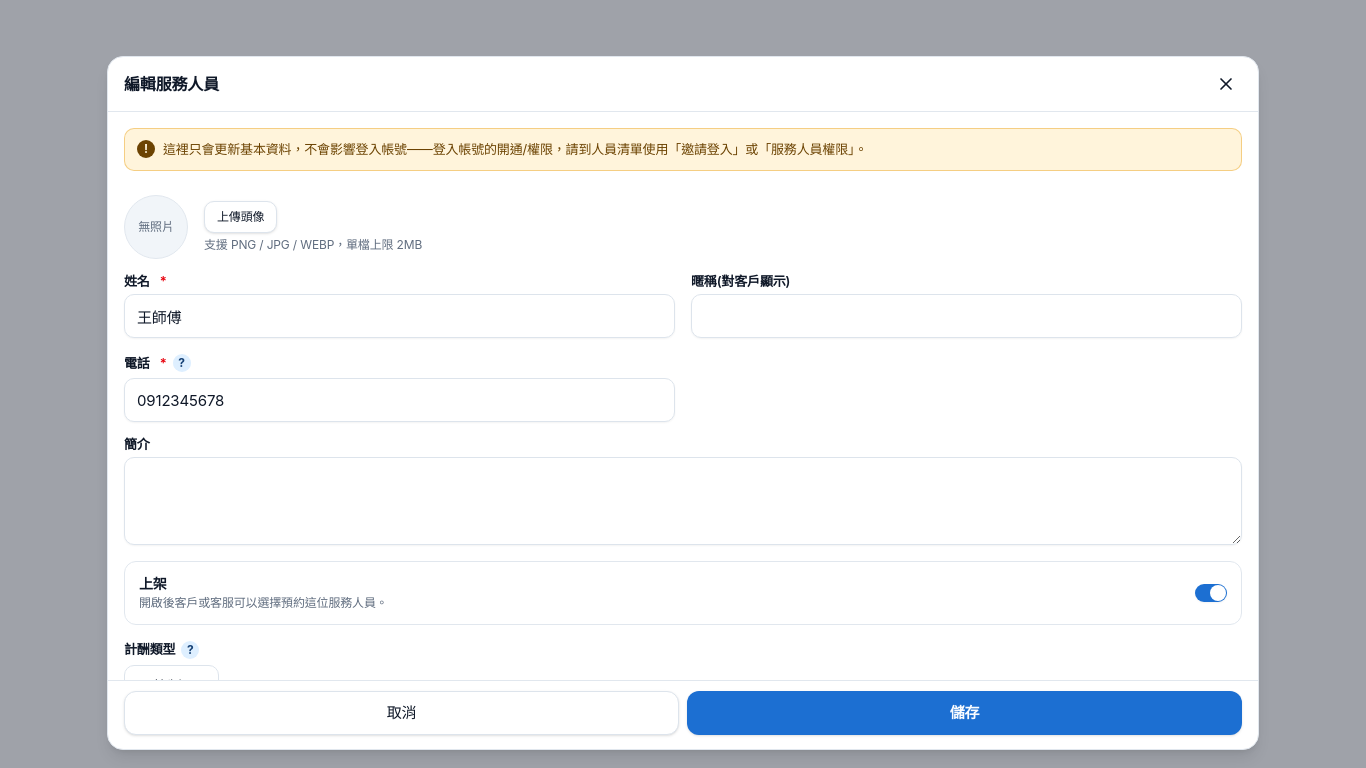
第 11 批 J:編輯服務人員 × 填過資料才問放棄 › 改姓名一個字 ⇒ Esc 先問「確定放棄這次輸入？」、不關
Type "A" into the field labelled "姓名 *" at (400, 316), box [124,294,675,338]
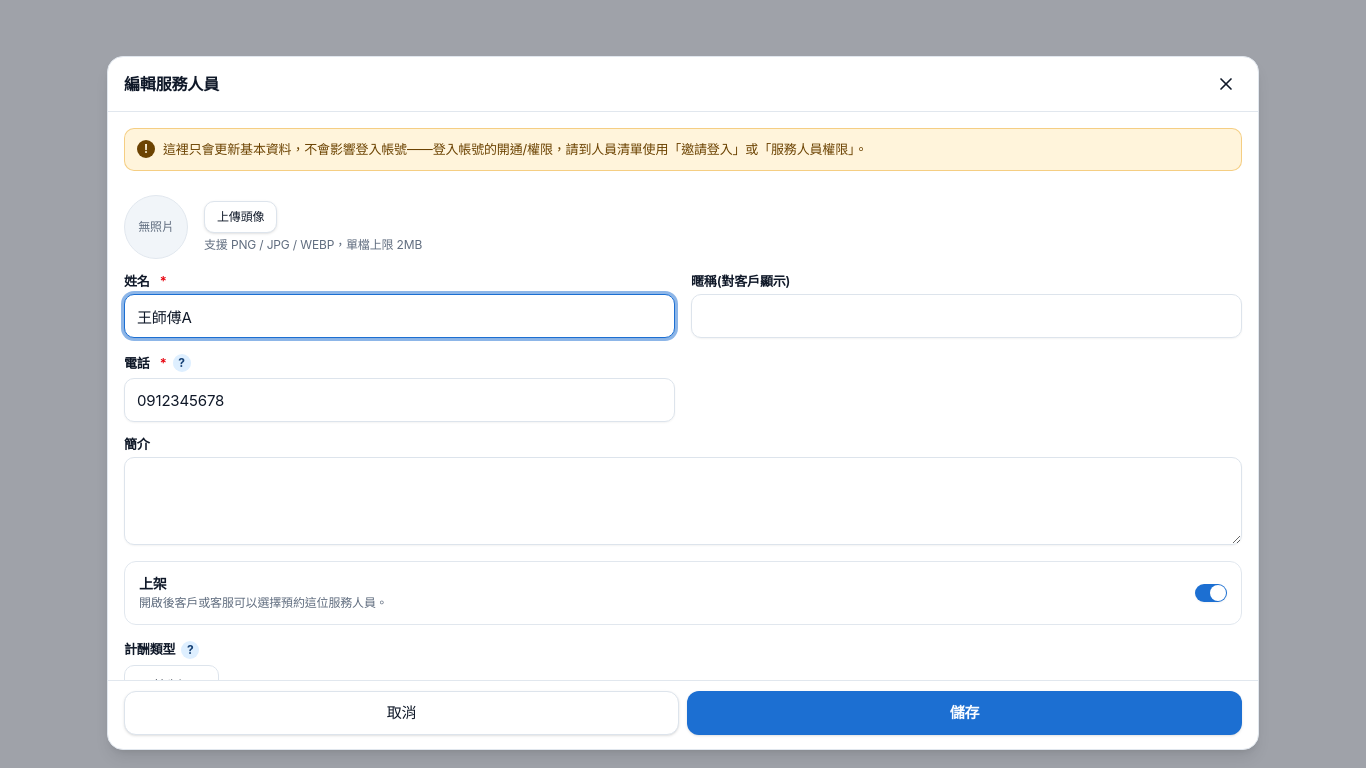
Press Escape
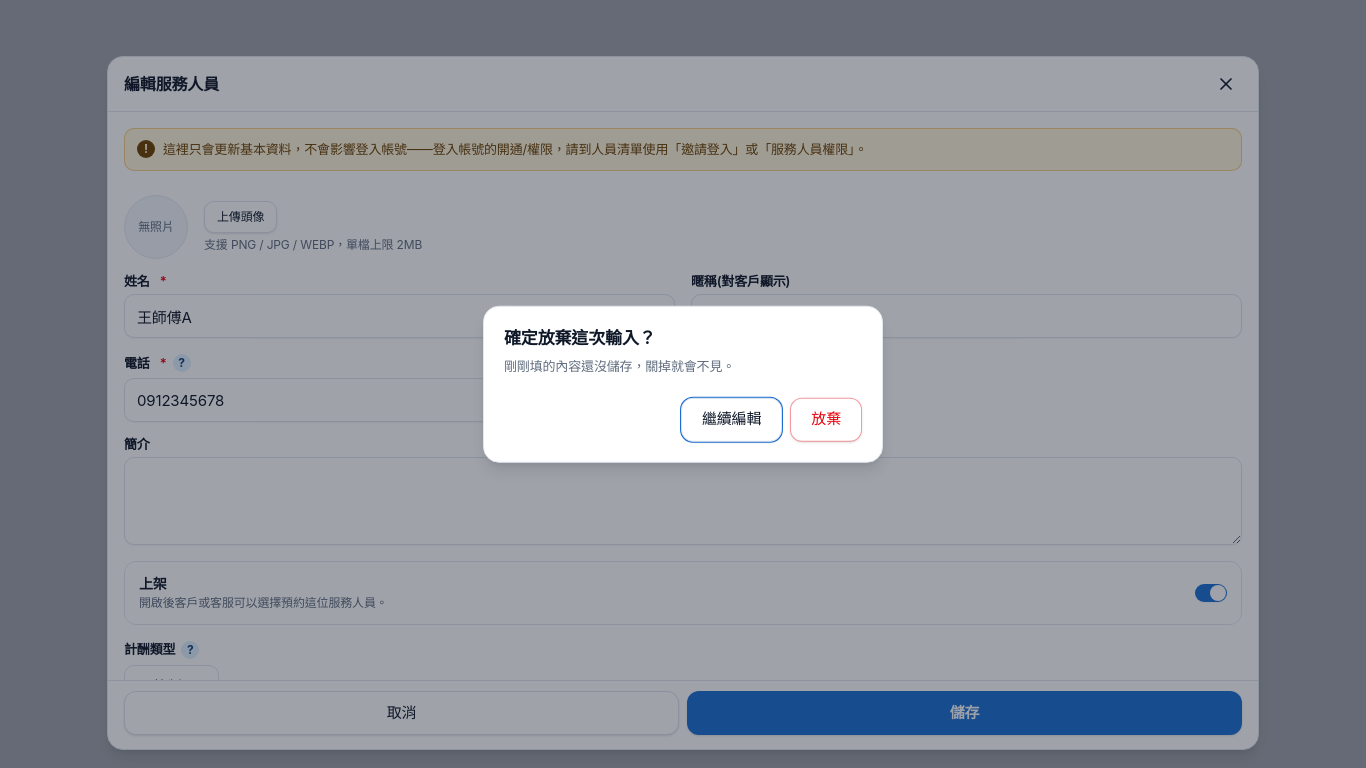
Result: the heading "確定放棄這次輸入？" is shown at [504,328,656,348]
